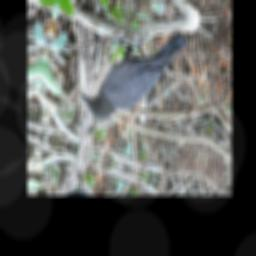Crow: (76, 0, 191, 145)
